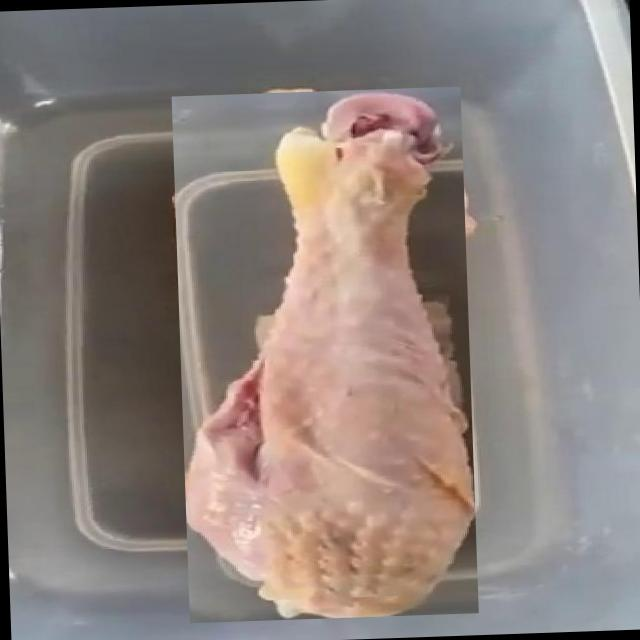chicken: (170, 85, 478, 623)
